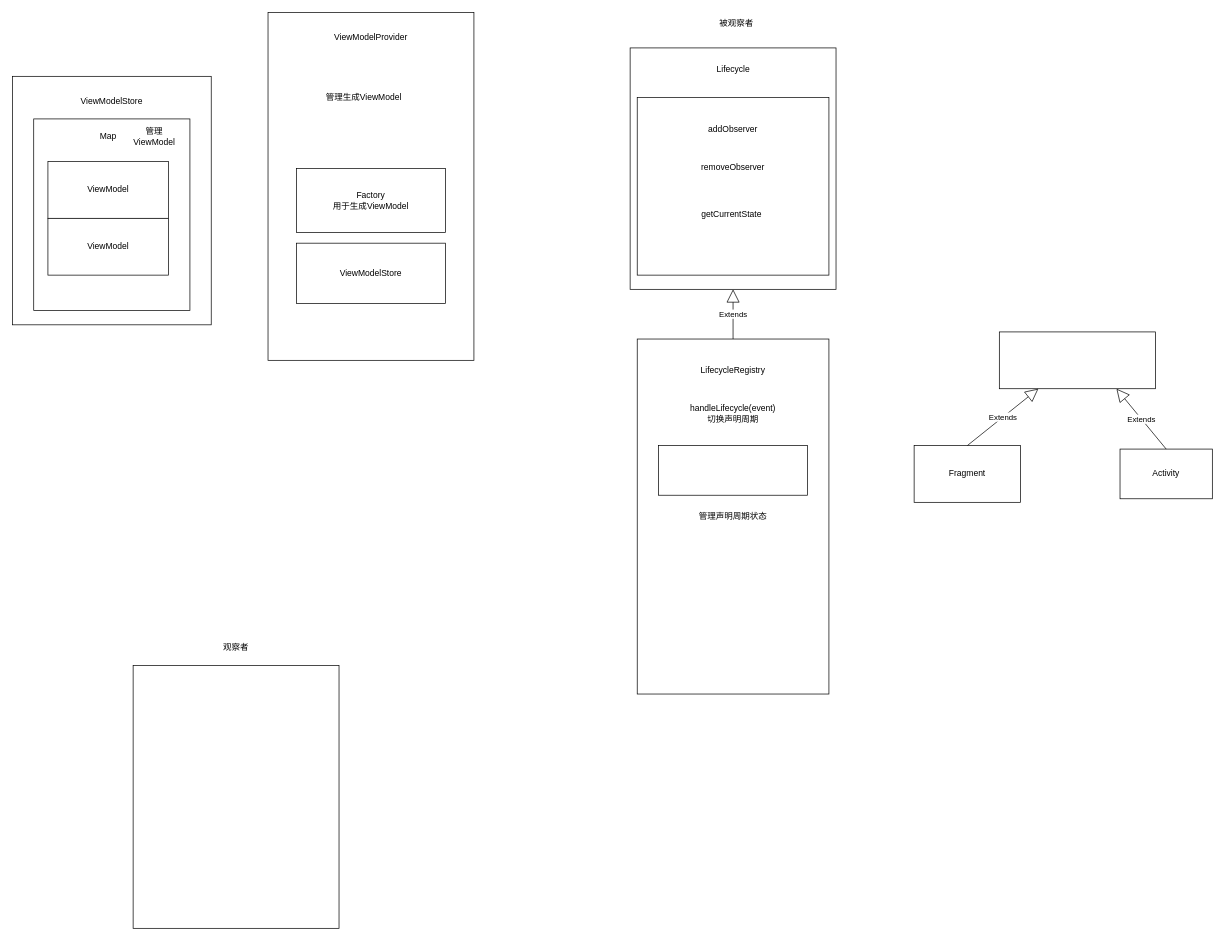
The diagram is 1225 pixels wide and 941 high, and some of its shapes have lost their labels. The shapes that lost their labels are listed below. From the top down, each one's centre as x and y in pixels, then its label:
At point (1077, 360): "LifecycleOwner".
At point (733, 470): "Weak<mLifecycleOwner>".
At point (235, 796): "LifecycleEventObserver".
